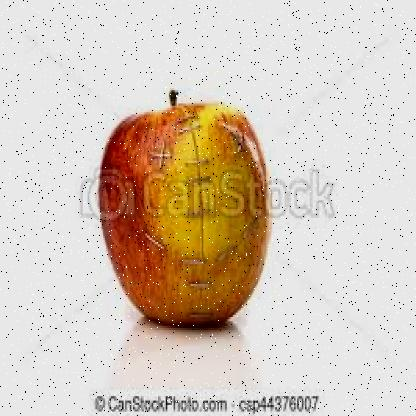damaged_apple: (97, 104, 275, 326)
